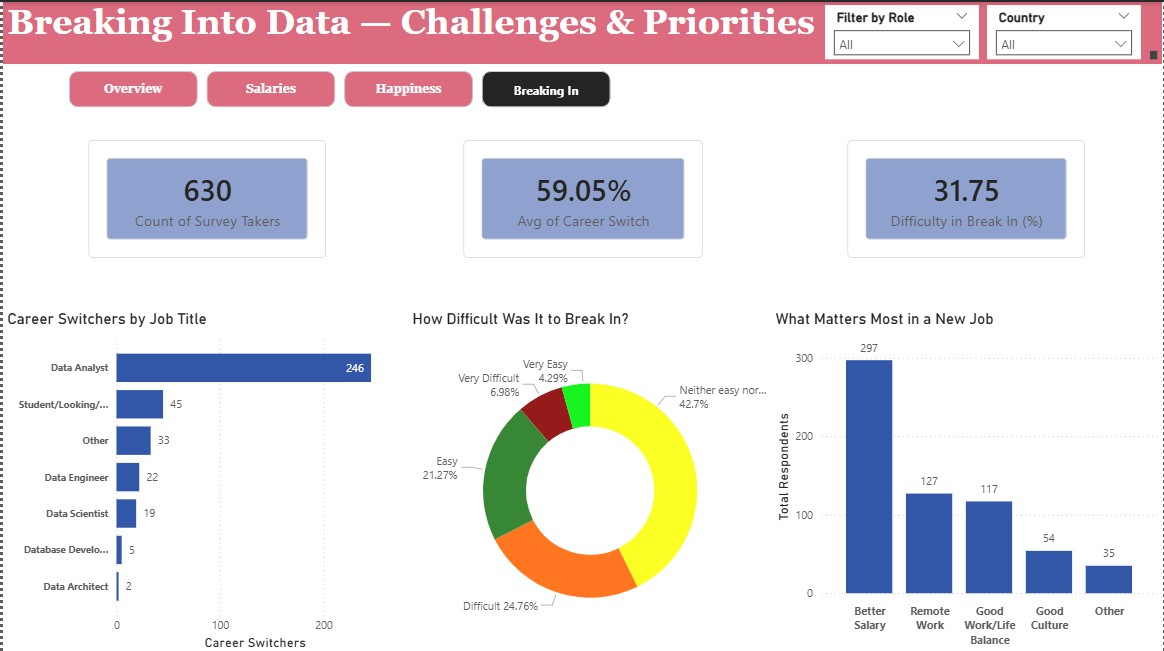

Layout of this report page (visuals, bound fields, positions):
{"tool":"powerbi","page":{"name":"Breaking In","canvas":[1280,720],"ordinal":3},"visuals":[{"type":"textbox","title":"Breaking Into Data — Challenges & Priorities","box":[0,0,1279.4,68],"z":0},{"type":"slicer","fields":{"Values":["Data Professional Survey.Country"]},"box":[1086.9,3.8,170,60],"z":1000},{"type":"slicer","fields":{"Values":["Data Professional Survey.Job Title"]},"box":[907.7,3.8,170,60],"z":2000},{"type":"pageNavigator","box":[72.3,75.4,600,40],"z":3000},{"type":"cardVisual","fields":{"Data":["CountNonNull(Data Professional Survey.Unique ID)"]},"box":[94,152,262,130],"z":4000},{"type":"cardVisual","fields":{"Data":["Data Professional Survey.Avg_Career_Switch%"]},"box":[508,152,264,130],"z":5000},{"type":"cardVisual","fields":{"Data":["_Measures (2).Avg Difficulty"]},"box":[932,152,262,130],"z":6000},{"type":"donutChart","title":"How Difficult Was It to Break In?","fields":{"Y":["_Measures (2).Total Respondents"],"Category":["Data Professional Survey.Difficulty Breaking In"]},"box":[446.7,340,401.7,380],"z":7000},{"type":"clusteredColumnChart","title":"What Matters Most in a New Job","fields":{"Category":["Data Professional Survey.Job Priority"],"Y":["_Measures (2).Total Respondents"]},"box":[848.3,340,431.7,380],"z":7001},{"type":"clusteredBarChart","title":"Career Switchers by Job Title","fields":{"Y":["_Measures (2).Career Switchers"],"Category":["Data Professional Survey.Job Title"]},"box":[0,340,446.7,380],"z":7002}]}

Visuals, with their boxes in screenshot pixels (x1, y1, x2, y2), scaled from the page's 1280x720 canvas onto the 1164x651 screenshot:
"Breaking Into Data — Challenges & Priorities" textbox: [x1=0, y1=0, x2=1163, y2=61]
slicer - Data Professional Survey.Country: [x1=988, y1=3, x2=1143, y2=58]
slicer - Data Professional Survey.Job Title: [x1=825, y1=3, x2=980, y2=58]
pageNavigator: [x1=66, y1=68, x2=611, y2=104]
cardVisual - CountNonNull(Data Professional Survey.Unique ID): [x1=85, y1=137, x2=324, y2=255]
cardVisual - Data Professional Survey.Avg_Career_Switch%: [x1=462, y1=137, x2=702, y2=255]
cardVisual - _Measures (2).Avg Difficulty: [x1=848, y1=137, x2=1086, y2=255]
"How Difficult Was It to Break In?" donutChart: [x1=406, y1=307, x2=772, y2=650]
"What Matters Most in a New Job" clusteredColumnChart: [x1=771, y1=307, x2=1163, y2=650]
"Career Switchers by Job Title" clusteredBarChart: [x1=0, y1=307, x2=406, y2=650]
